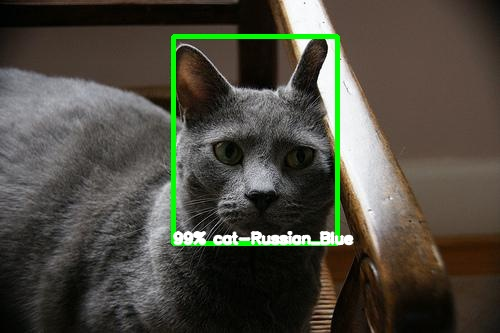cat-Russian_Blue: (173, 35, 336, 241)
